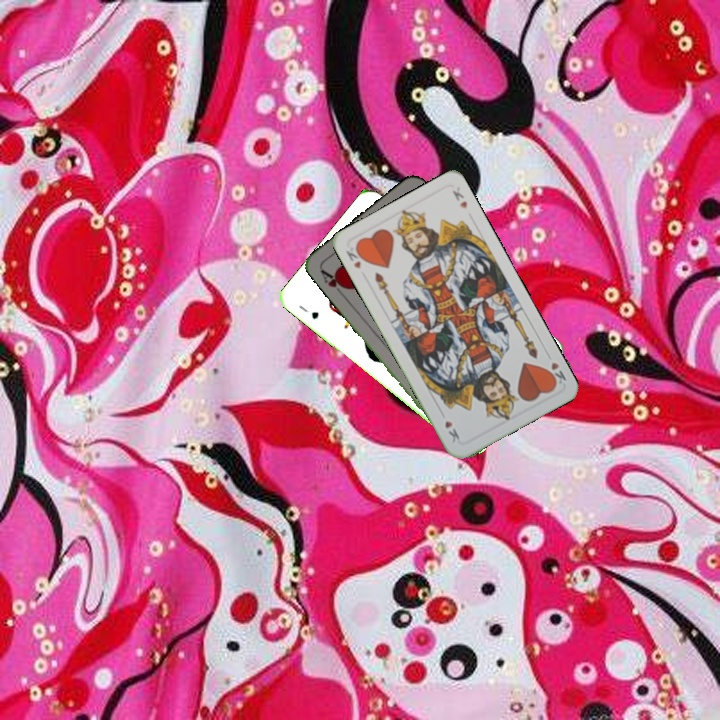GU: (295, 301, 321, 322)
HA: (317, 265, 350, 299)
HK: (542, 349, 569, 388), (342, 242, 367, 272)
